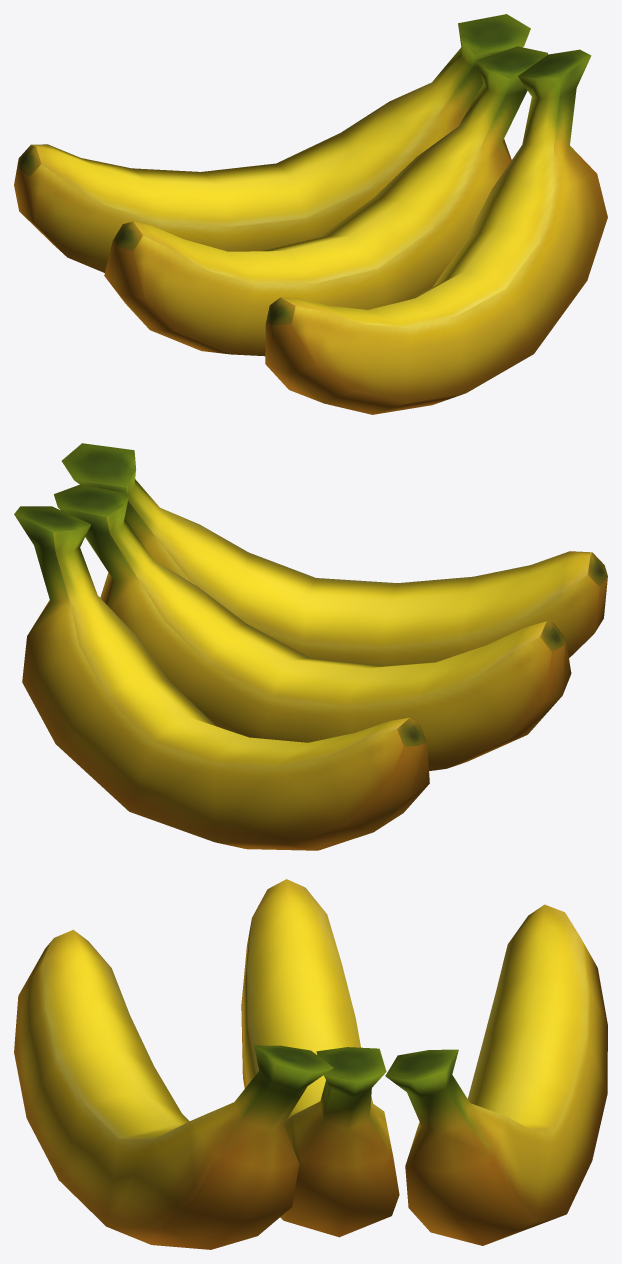
File: SiZheBingFang_01_XiangJiao_01_uv2.FBX
3 views of the same model, one above another, from view 1: azimuth 30°, elevation 25°; view 2: azimuth 150°, elevation 25°; view 3: azimuth 270°, elevation 25° (orthographic). The views are drawn at different scales.
Visible parts, largest first — view 1: pCube8; view 2: pCube8; view 3: pCube8.
Part boxes in pixels (x1,y1,x2,y2): pCube8: (14, 14, 607, 414); pCube8: (14, 443, 607, 850); pCube8: (14, 879, 607, 1249).
Bounding box in the file's own units: 163 × 79.15 × 157.
